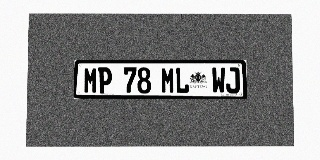7: (123, 67, 137, 93)
8: (137, 67, 151, 93)
J: (226, 67, 240, 93)
L: (175, 67, 189, 93)
M: (84, 67, 98, 93), (161, 67, 175, 93)
P: (98, 67, 112, 93)
W: (212, 67, 225, 93)
